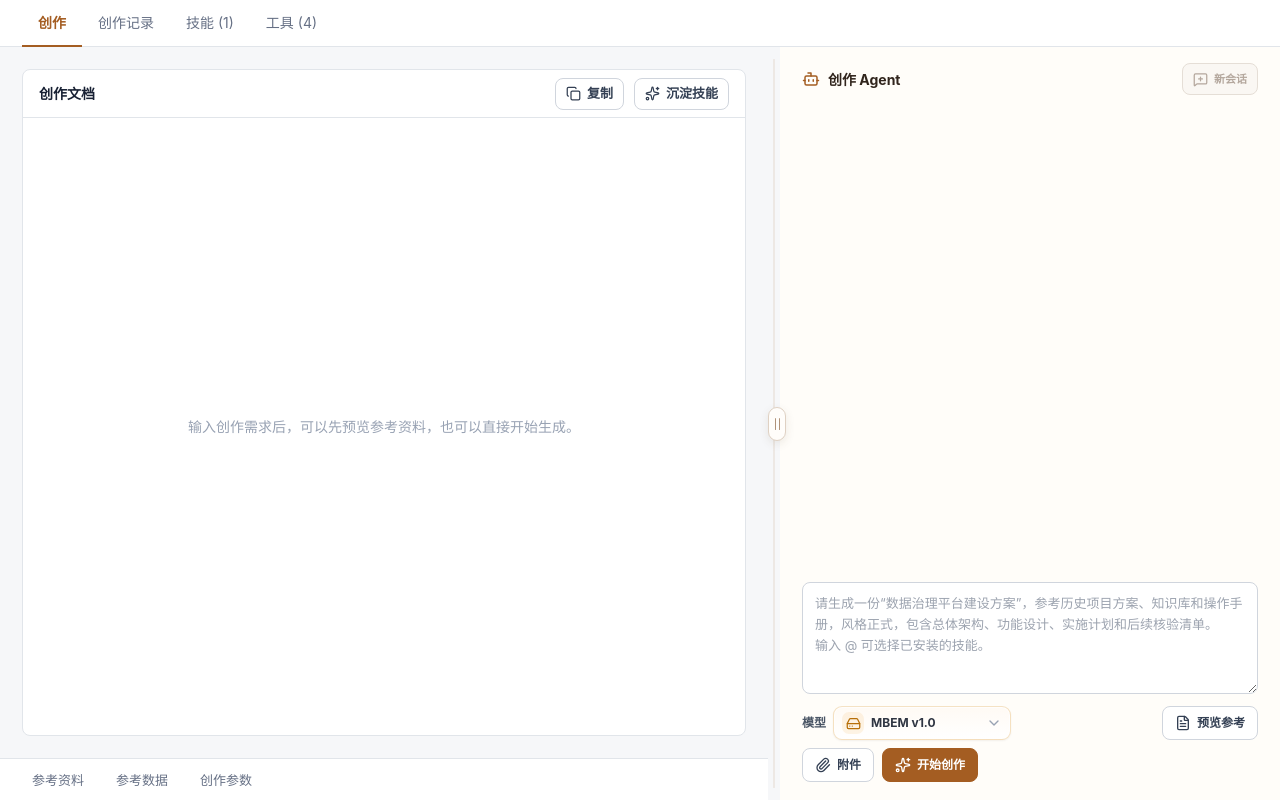
技能安装与使用 › 从 Skill 列表把当前版本发布到创作市场
Click the button "技能 (1)". click: (210, 24)
box: [170,0,250,47]
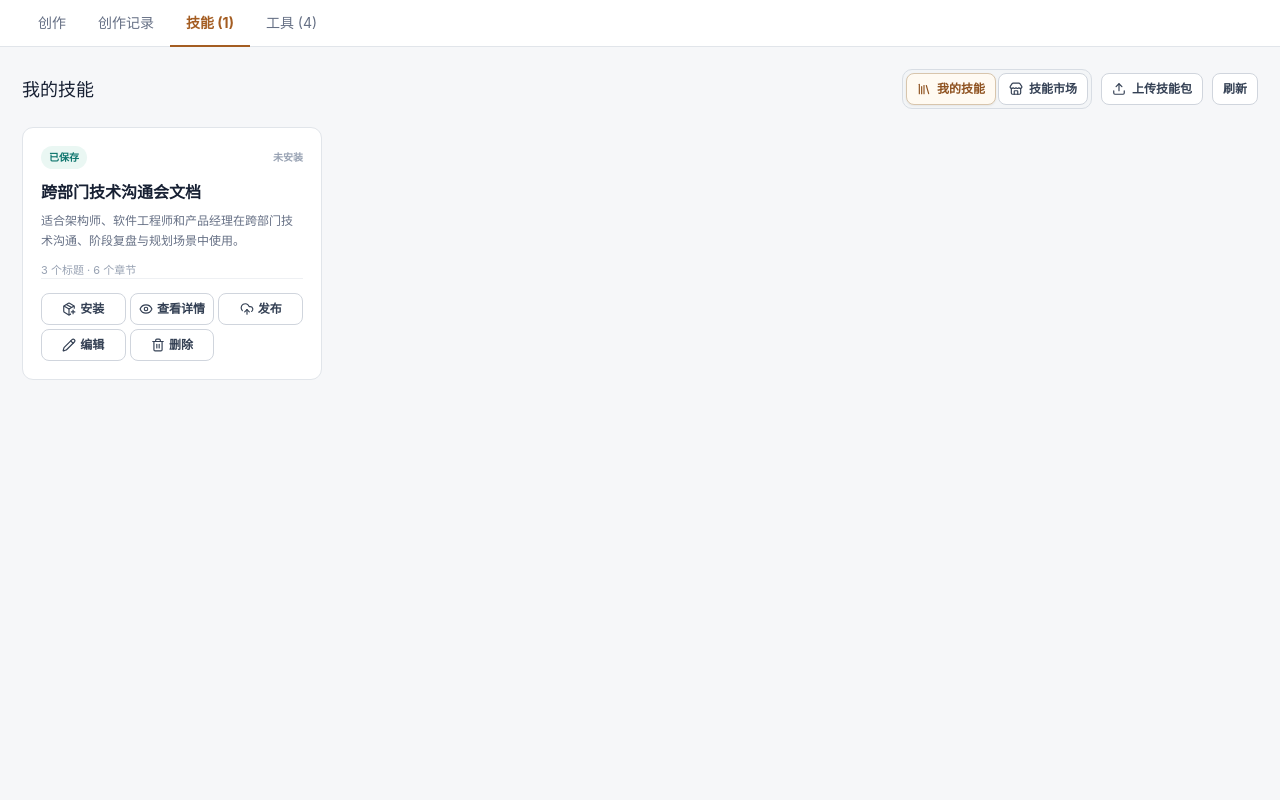
Click the button "发布". click: (261, 309)
box: [218,293,303,325]
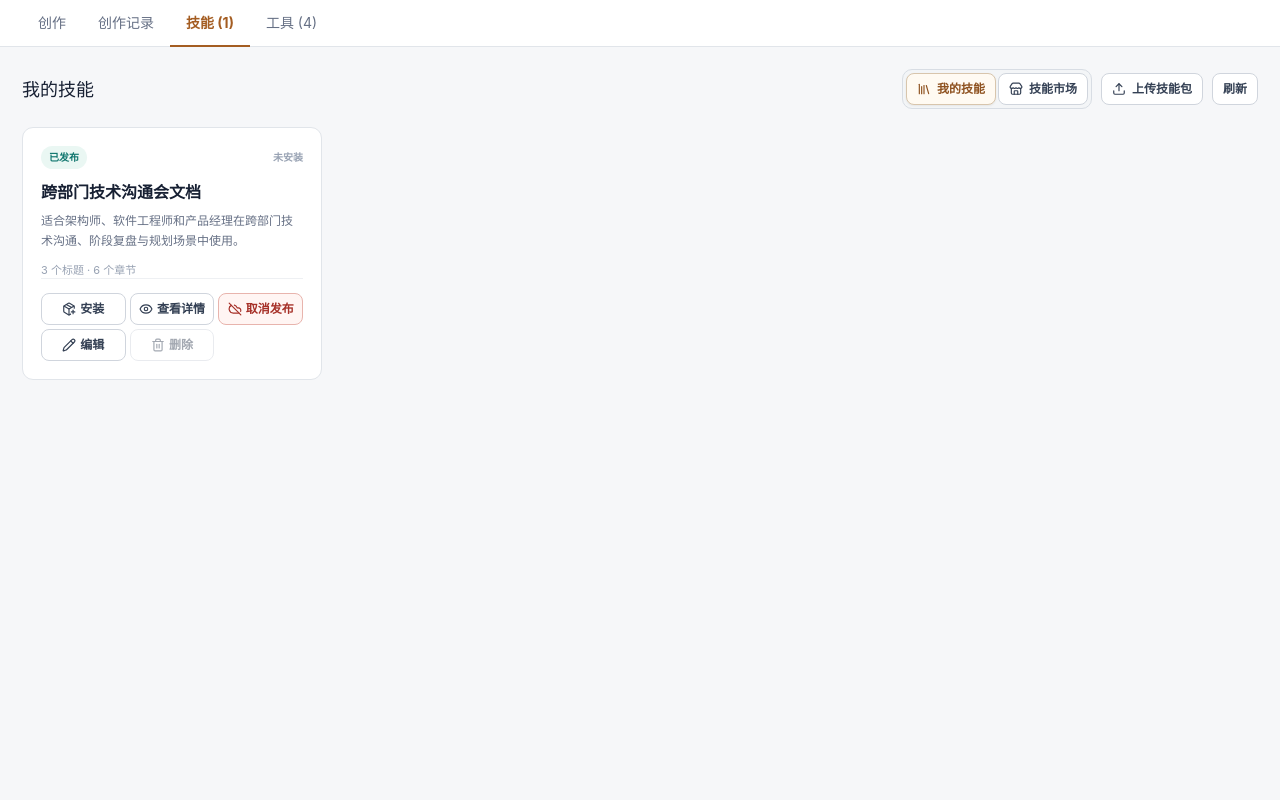
Expected: the text "已发布" is shown, [41,146,87,169]
